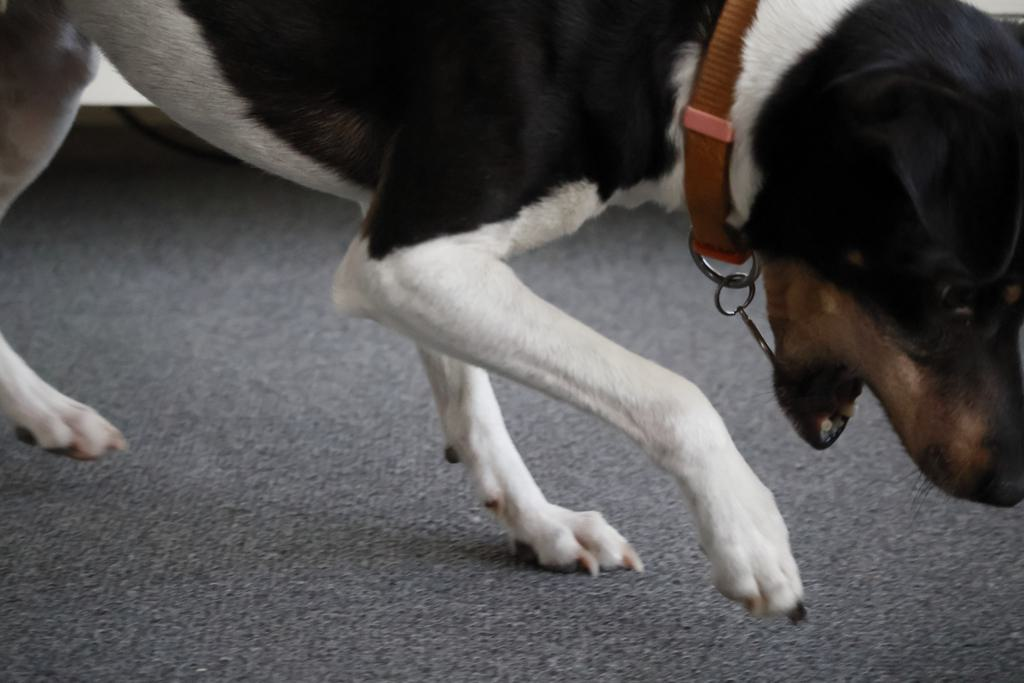Dog: (0, 0, 1024, 640)
